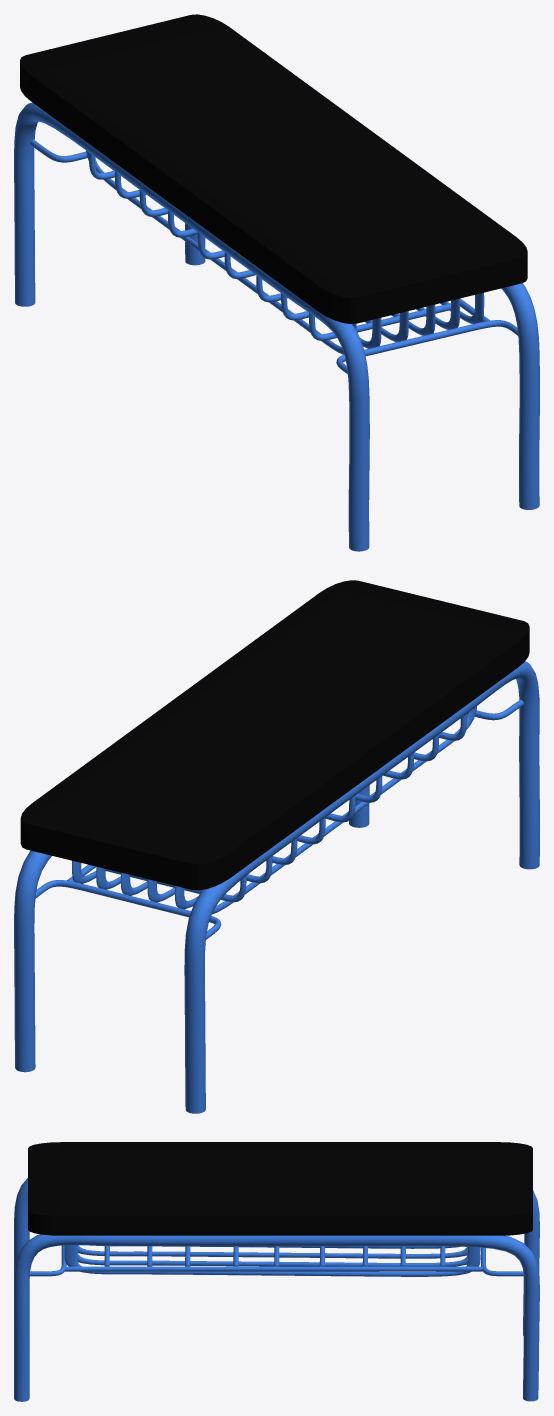
The picture shows the model from 3 angles, top to bottom: view 1: azimuth 30°, elevation 25°; view 2: azimuth 150°, elevation 25°; view 3: azimuth 270°, elevation 25°; orthographic projection. The views are drawn at different scales.
Parts seen in each view (by area): view 1: Cube, BézierCurve.001, BézierCurve, BézierCurve.002, BézierCurve.009, BézierCurve.010; view 2: Cube, BézierCurve.001, BézierCurve, BézierCurve.003, BézierCurve.009; view 3: Cube, BézierCurve, Cylinder, BézierCurve.004, BézierCurve.006, BézierCurve.005, BézierCurve.001, BézierCurve.007, BézierCurve.003.
Boxes of the visible parts, x1,y1,x2,y2 form: Cube: (20,14,527,323); BézierCurve.001: (14,102,369,551); BézierCurve: (185,223,539,509); BézierCurve.002: (336,320,518,373); BézierCurve.009: (86,150,356,354); BézierCurve.010: (309,303,450,340); Cube: (20,580,529,890); BézierCurve.001: (184,661,539,1113); BézierCurve: (14,785,369,1072); BézierCurve.003: (35,880,221,939); BézierCurve.009: (200,706,476,914); Cube: (28,1142,532,1235); BézierCurve: (14,1234,539,1401); Cylinder: (64,1266,482,1271); BézierCurve.004: (64,1245,480,1276); BézierCurve.006: (76,1245,467,1258); BézierCurve.005: (76,1248,480,1266); BézierCurve.001: (14,1178,539,1335); BézierCurve.007: (96,1245,459,1248); BézierCurve.003: (481,1247,524,1276).
Size of the model in its own units: 1.21 by 1.44 by 3.65.
